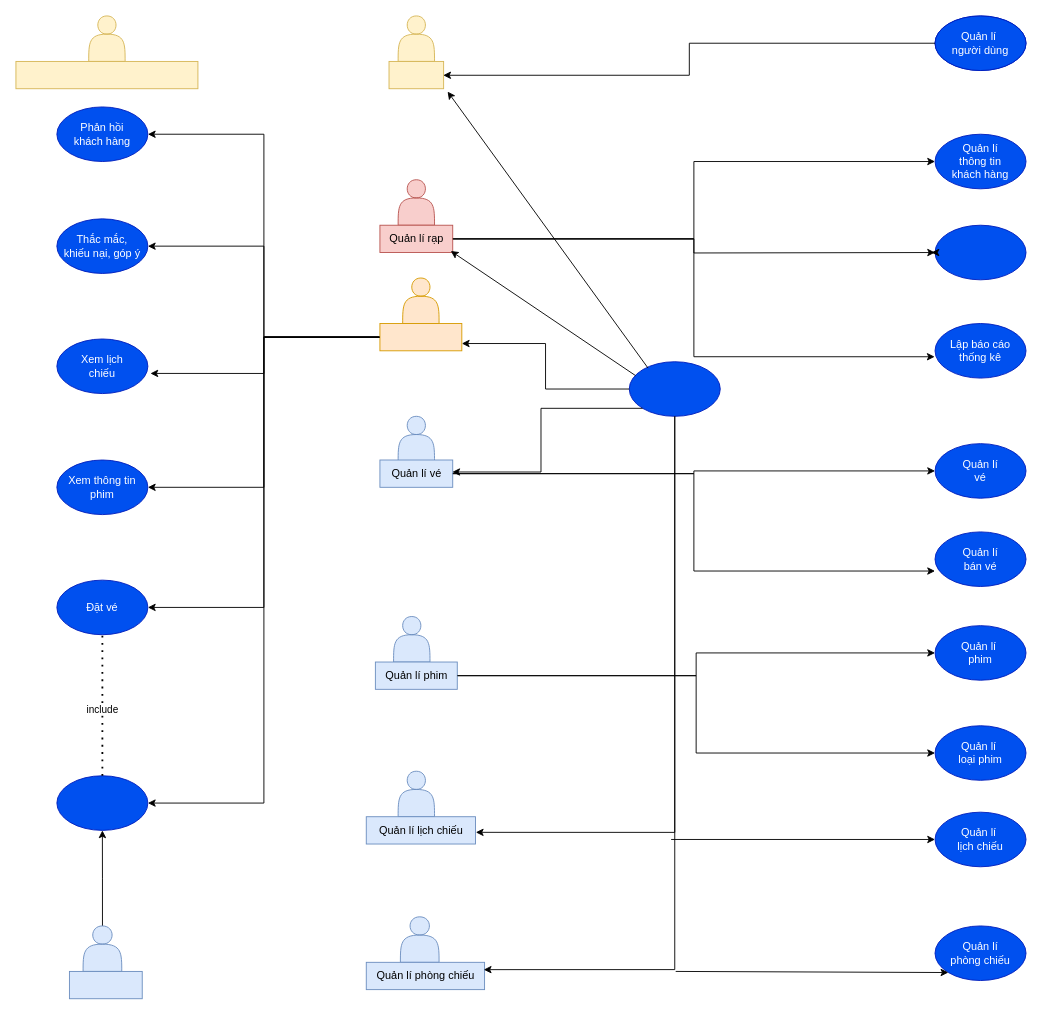
The diagram is 1042 pixels wide and 1015 high, and some of its shapes have lost their labels. Here are the shapes that lost their labels. From the top down, the centre of each, then its label:
(x=106, y=75): nhân viên chăm sóc khách hàng
(x=416, y=75): Admin
(x=980, y=252): Quản lí nhân viên
(x=420, y=337): Khách Hàng
(x=674, y=388): Đăng Nhập
(x=102, y=802): Thanh toán
(x=105, y=985): Ngân hàng
